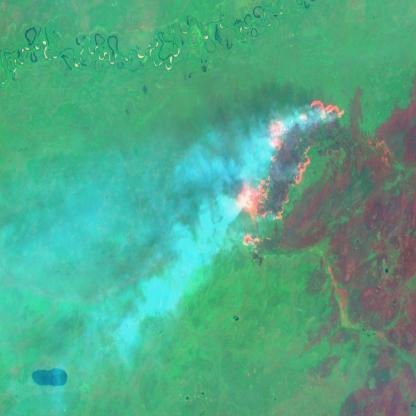fire: (238, 91, 349, 252)
